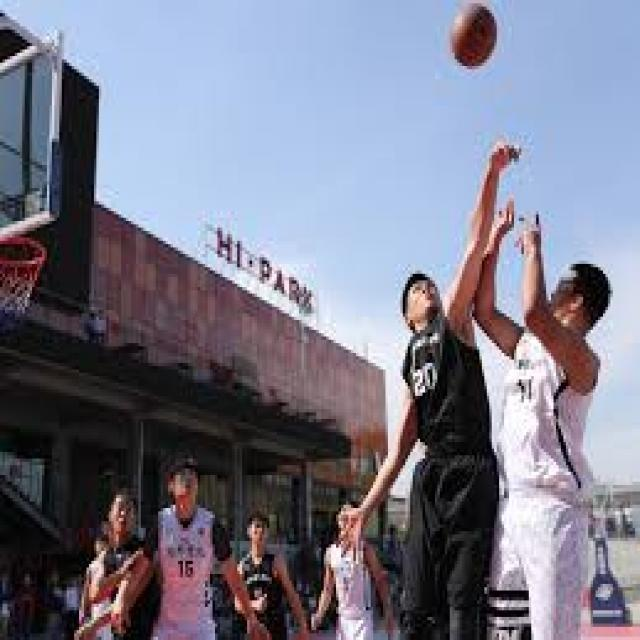rim: (449, 0, 499, 69)
